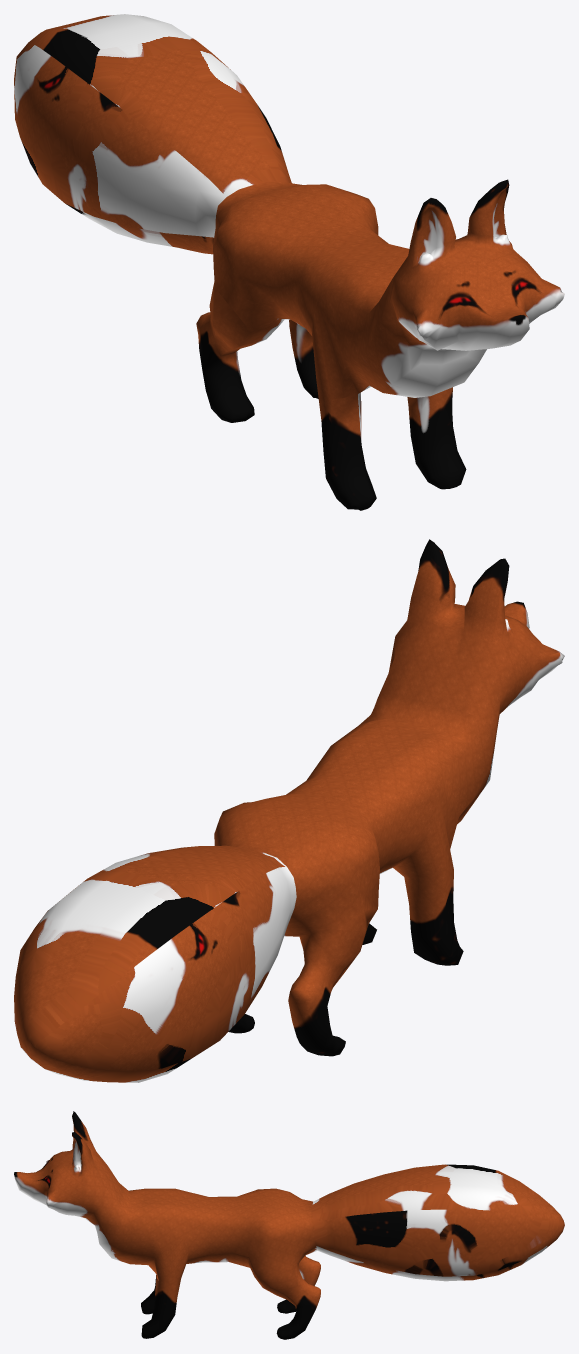
The model's file is Fox_Normal.fbx.
The picture shows the model from 3 angles, top to bottom: view 1: azimuth 30°, elevation 25°; view 2: azimuth 150°, elevation 25°; view 3: azimuth 270°, elevation 25°; orthographic projection. The views are drawn at different scales.
Parts seen in each view (by area): view 1: Fox_vf_02; view 2: Fox_vf_02; view 3: Fox_vf_02.
Boxes of the visible parts, x1=… form: Fox_vf_02: x1=14, y1=14, x2=564, y2=510; Fox_vf_02: x1=14, y1=539, x2=564, y2=1082; Fox_vf_02: x1=14, y1=1111, x2=564, y2=1339.
Size of the model in its own units: 2.36 by 4.7 by 11.54.
